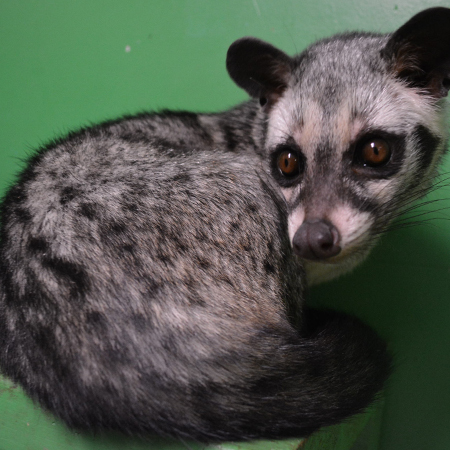Civet: (2, 6, 449, 432)
